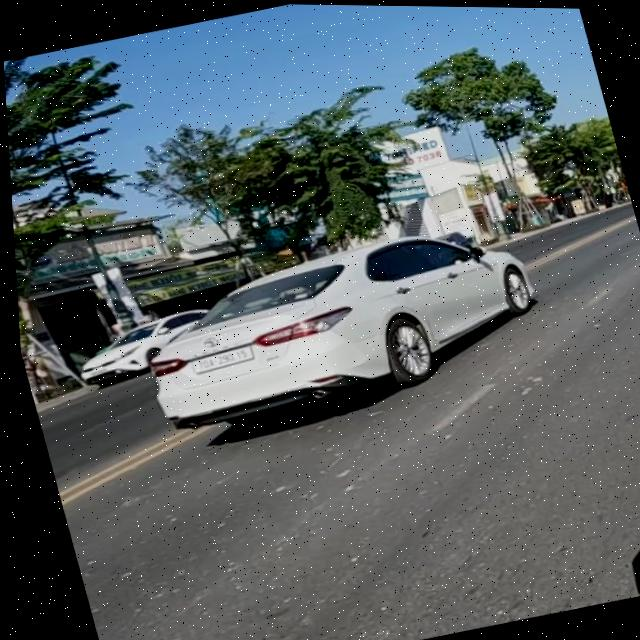car: (123, 208, 571, 444), (62, 302, 221, 386)
plate: (177, 335, 262, 381)
